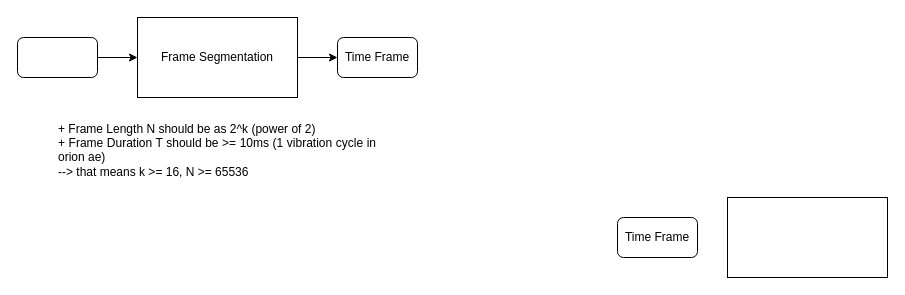
The diagram is 905 pixels wide and 295 high, and some of its shapes have lost their labels. Here are the shapes that lost their labels. From the top down, the centre of each, then its label:
pixel 57 57: Raw AE data stream
pixel 807 237: Frame Preprocessing
